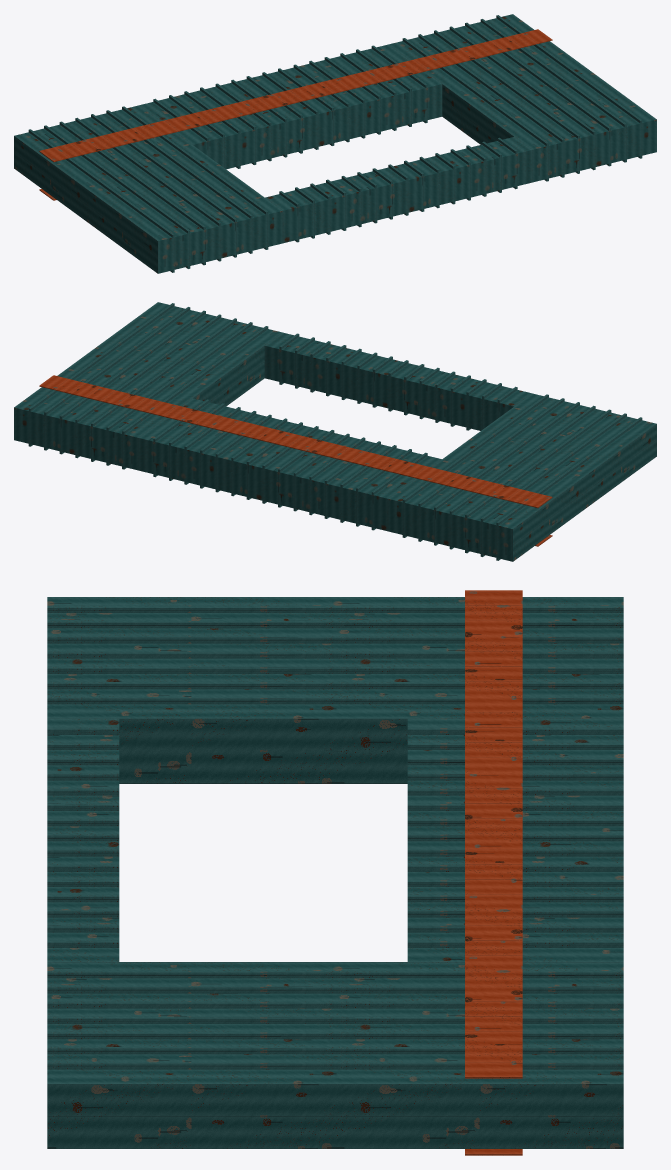
File: corrugated_window-pristine.obj
3 views of the same model, one above another, from view 1: azimuth 30°, elevation 25°; view 2: azimuth 150°, elevation 25°; view 3: azimuth 270°, elevation 25° (orthographic). The views are drawn at different scales.
Visible parts, largest first — view 1: corrugated_window.Pristine; view 2: corrugated_window.Pristine; view 3: corrugated_window.Pristine.
Part boxes in pixels (box(x1,y1,x2,y2)): corrugated_window.Pristine: box(14, 14, 656, 273); corrugated_window.Pristine: box(14, 302, 656, 561); corrugated_window.Pristine: box(47, 590, 623, 1155).
Bounding box in the file's own units: 16 × 1.21 × 8.
2 materials, 2 textured.
